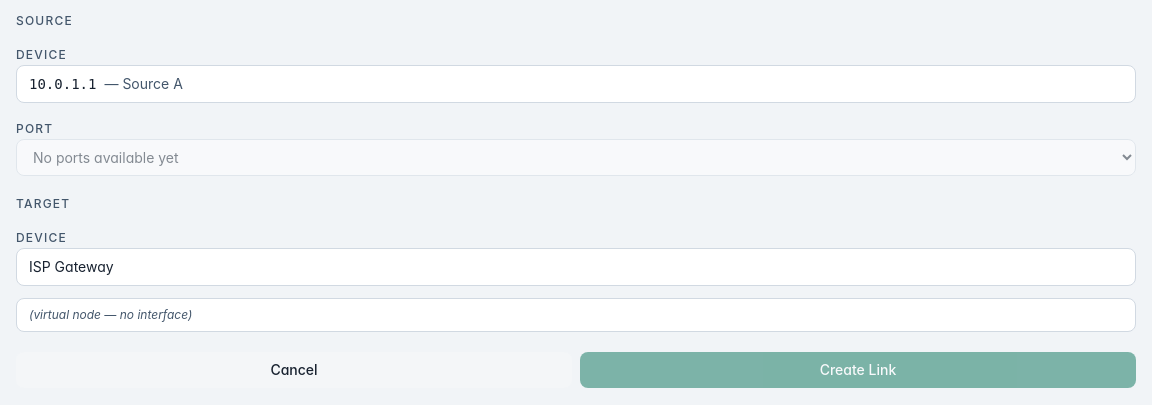
LinkCreatePanel › interface request ownership › ignores a stale source response that resolves after the selected source response
Click the button "10.0.1.1— Source A" at [63, 84], box [16,65,1136,103]
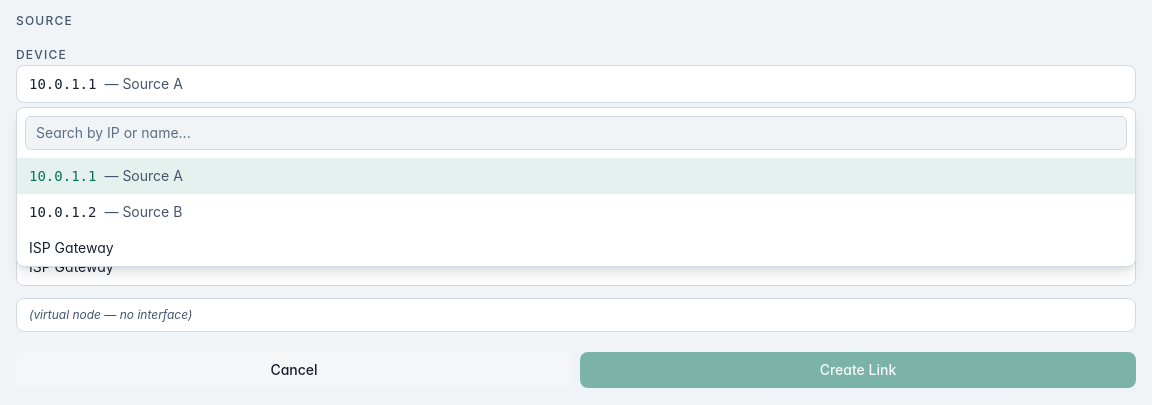
Click the button "10.0.1.2— Source B" at [63, 212], box [17,194,1135,230]
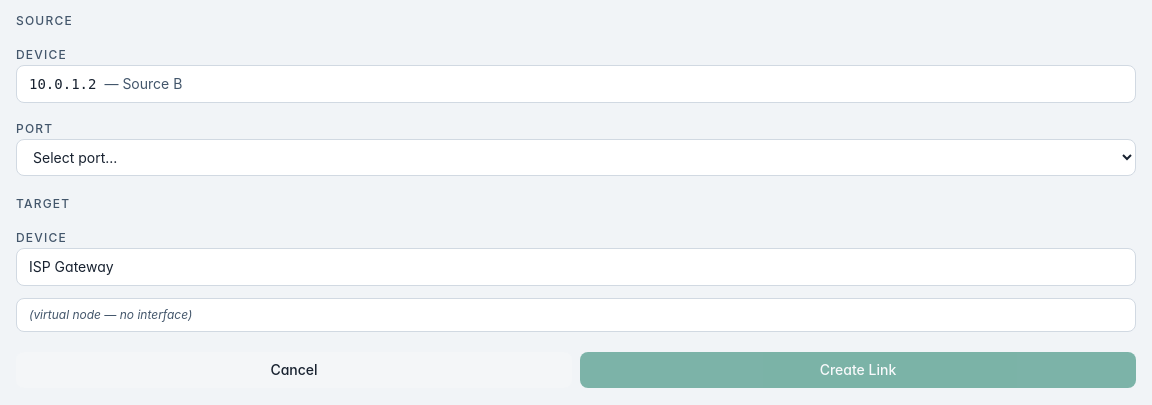
Select "source-b-port 1G up" in the dropdown at [576, 158], box [16,139,1136,176]
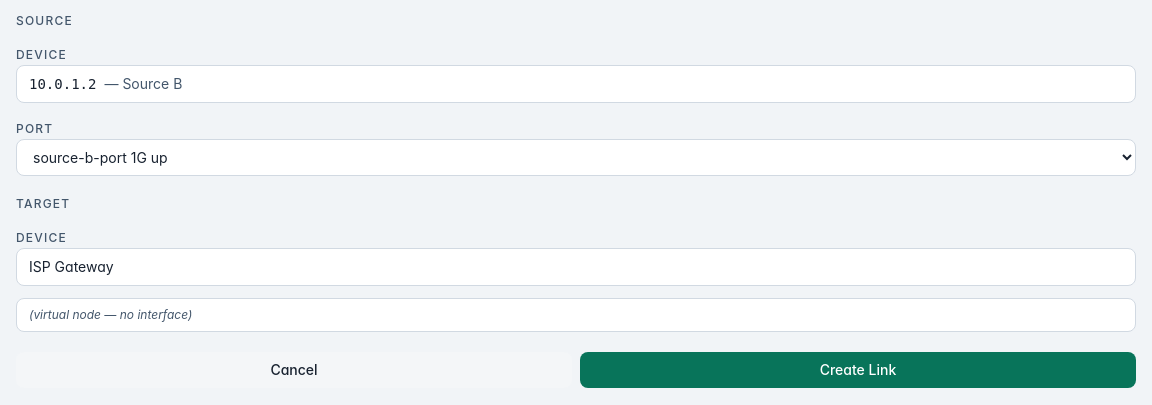
Check: the button "Create Link" is enabled, box [580,352,1136,388]
